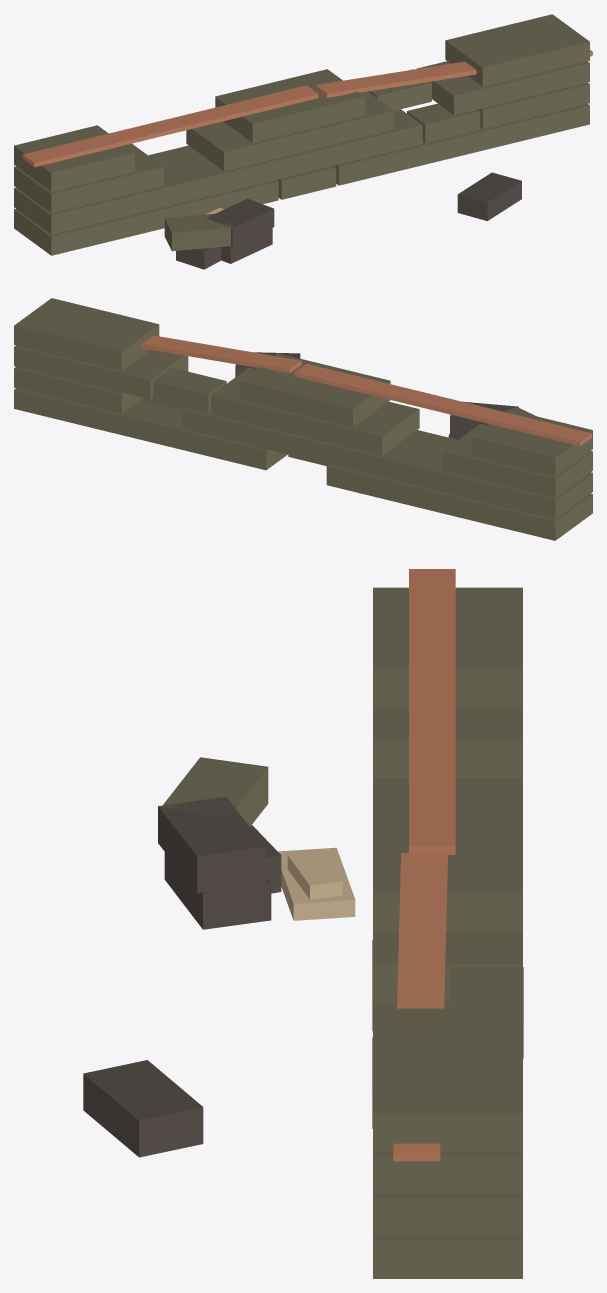
The model's file is SM_MuroSacos_v3_Tablon_e1_Danado_LOD1.fbx.
The picture shows the model from 3 angles, top to bottom: view 1: azimuth 30°, elevation 25°; view 2: azimuth 150°, elevation 25°; view 3: azimuth 270°, elevation 25°; orthographic projection. The views are drawn at different scales.
Visible parts, largest first — view 1: SM_bloques.muro_sacos_estados_v13_LOD1; view 2: SM_bloques.muro_sacos_estados_v13_LOD1; view 3: SM_bloques.muro_sacos_estados_v13_LOD1.
Boxes of the visible parts, box(x1,y1,x2,y2) form: SM_bloques.muro_sacos_estados_v13_LOD1: box(14, 14, 592, 269); SM_bloques.muro_sacos_estados_v13_LOD1: box(14, 298, 592, 540); SM_bloques.muro_sacos_estados_v13_LOD1: box(83, 569, 523, 1278).
Size of the model in its own units: 8.2 by 1.26 by 2.82.
